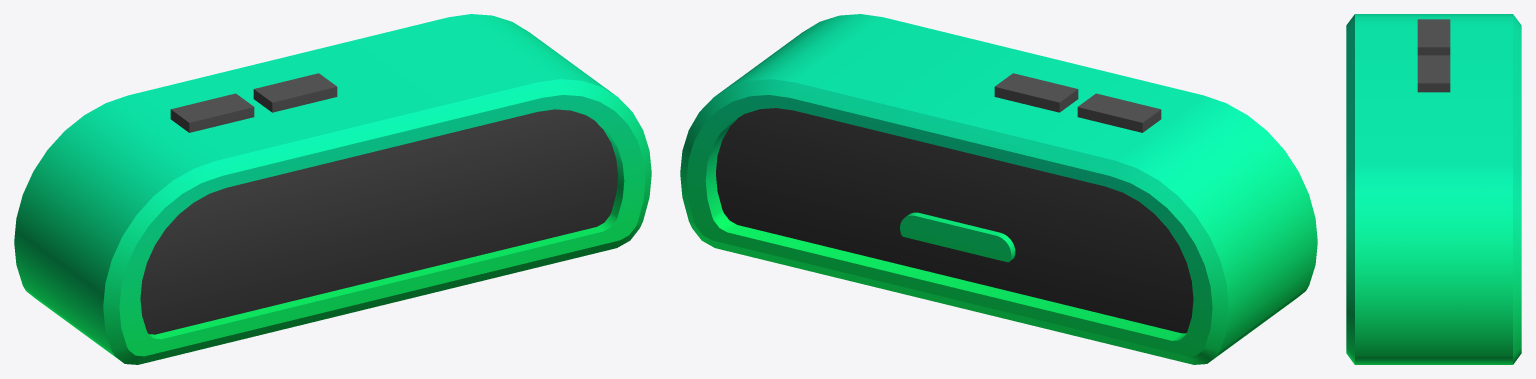
Rendered from SM_Despertador.fbx.
The picture shows the model from 3 angles, left to right: view 1: azimuth 30°, elevation 25°; view 2: azimuth 150°, elevation 25°; view 3: azimuth 270°, elevation 25°; orthographic projection. The views are drawn at different scales.
Visible parts, largest first — view 1: Cylinder; view 2: Cylinder; view 3: Cylinder.
Boxes of the visible parts, box(x1,y1,x2,y2) form: Cylinder: box(14, 14, 651, 364); Cylinder: box(680, 14, 1317, 364); Cylinder: box(1346, 14, 1521, 364).
Size of the model in its own units: 70.94 by 24.12 by 22.12.
